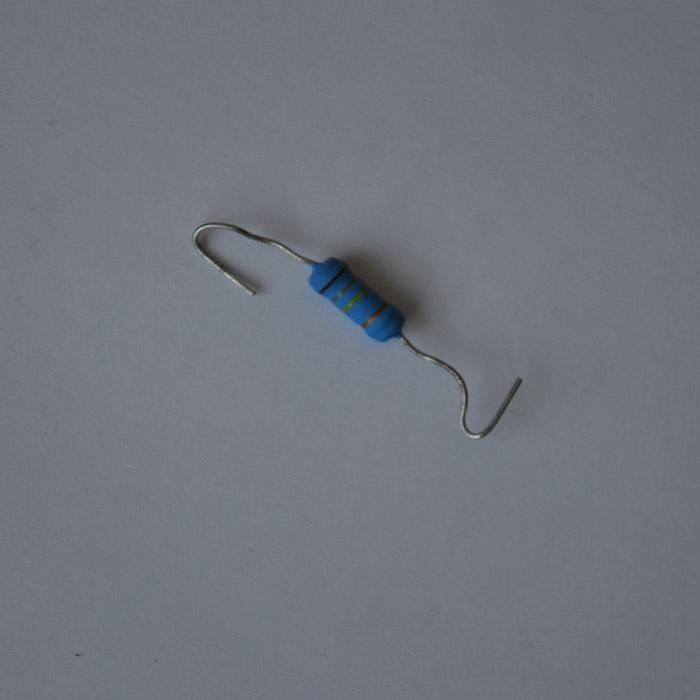resistor: (307, 256, 404, 343)
